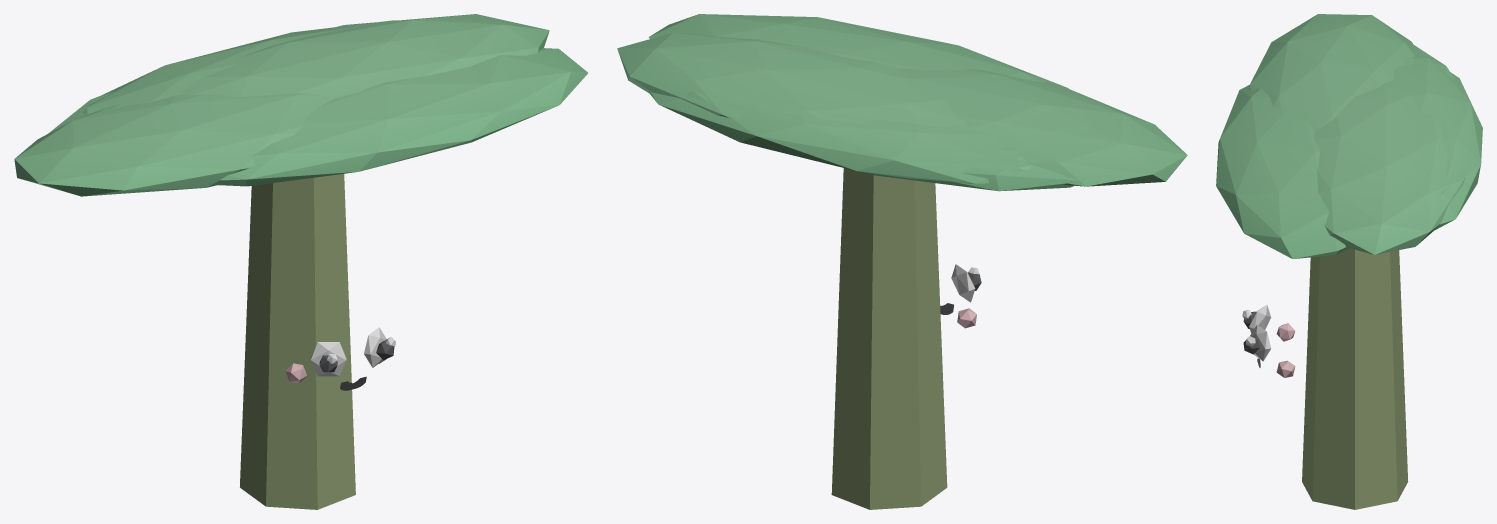
Rendered from heliconia-rostrata.glb.
The picture shows the model from 3 angles, left to right: view 1: azimuth 30°, elevation 25°; view 2: azimuth 150°, elevation 25°; view 3: azimuth 270°, elevation 25°; orthographic projection. The views are drawn at different scales.
Parts seen in each view (by area): view 1: pseudostem, leaf1, leaf2, leaf0, leaf3, pface-eye-r; view 2: pseudostem, leaf0, leaf2, leaf3, leaf1, leaf4; view 3: pseudostem, leaf0, leaf1, leaf2, leaf3, pface-eye-l, leaf4, pface-eye-r.
Part boxes in pixels (bbox=[...]): pseudostem: bbox=[240, 174, 355, 509]; leaf1: bbox=[219, 48, 587, 186]; leaf2: bbox=[14, 93, 334, 196]; leaf0: bbox=[179, 14, 549, 98]; leaf3: bbox=[82, 20, 401, 114]; pface-eye-r: bbox=[310, 342, 346, 376]; pseudostem: bbox=[831, 168, 947, 509]; leaf0: bbox=[617, 32, 966, 126]; leaf2: bbox=[897, 68, 1187, 186]; leaf3: bbox=[648, 91, 1032, 183]; leaf1: bbox=[648, 14, 1068, 88]; leaf4: bbox=[858, 147, 1077, 191]; pseudostem: bbox=[1302, 248, 1408, 509]; leaf0: bbox=[1314, 81, 1464, 254]; leaf1: bbox=[1216, 85, 1348, 258]; leaf2: bbox=[1249, 14, 1414, 130]; leaf3: bbox=[1393, 55, 1482, 230]; pface-eye-l: bbox=[1250, 324, 1271, 361]; leaf4: bbox=[1404, 42, 1454, 79]; pface-eye-r: bbox=[1249, 305, 1271, 333].
Size of the model in its own units: 0.6235 by 0.4454 by 0.294.
